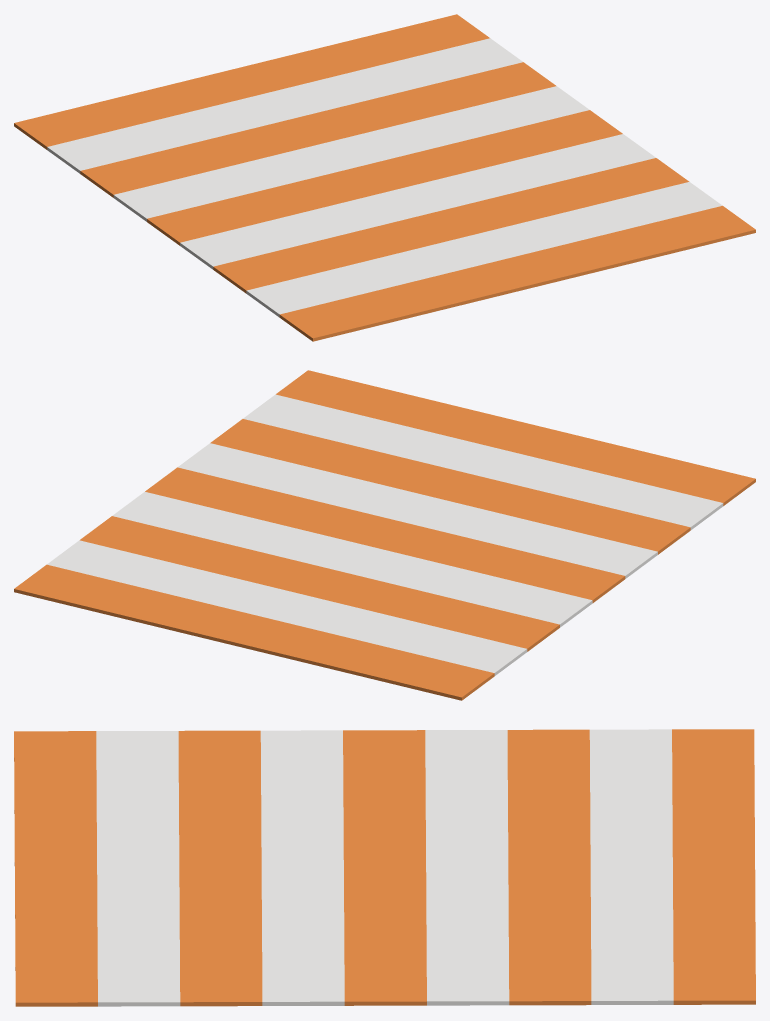
The model's file is Carpet_21.fbx.
3 views of the same model, one above another, from view 1: azimuth 30°, elevation 25°; view 2: azimuth 150°, elevation 25°; view 3: azimuth 270°, elevation 25° (orthographic). The views are drawn at different scales.
Visible parts, largest first — view 1: Carpet_21; view 2: Carpet_21; view 3: Carpet_21.
Part boxes in pixels (x1,y1,x2,y2): Carpet_21: (14,14,755,341); Carpet_21: (14,370,755,700); Carpet_21: (14,729,755,1006).
Bounding box in the file's own units: 295 × 338 × 2.07.
